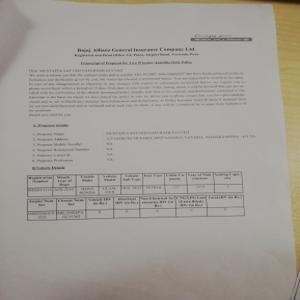table: (30, 194, 247, 217), (27, 171, 243, 192), (72, 46, 201, 66)
text: (26, 67, 249, 116), (30, 123, 255, 170)
